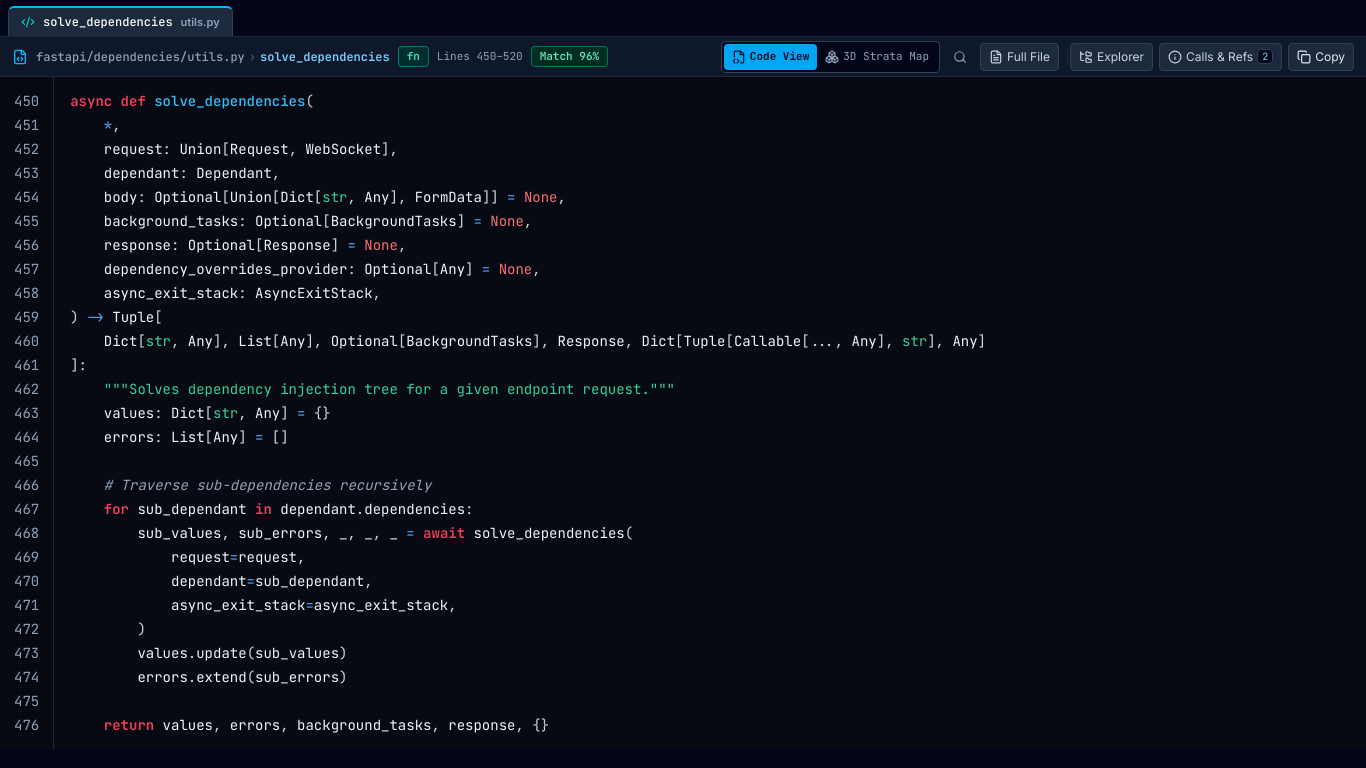
Test: Phase 4 Everyday Developer Ergonomics Suite › toggles Full File view in CodeViewerContainer and renders complete file lines
Click the button with test id "toggle-full-file-btn".
click(1020, 56)  # box left=980, top=42, right=1059, bottom=70
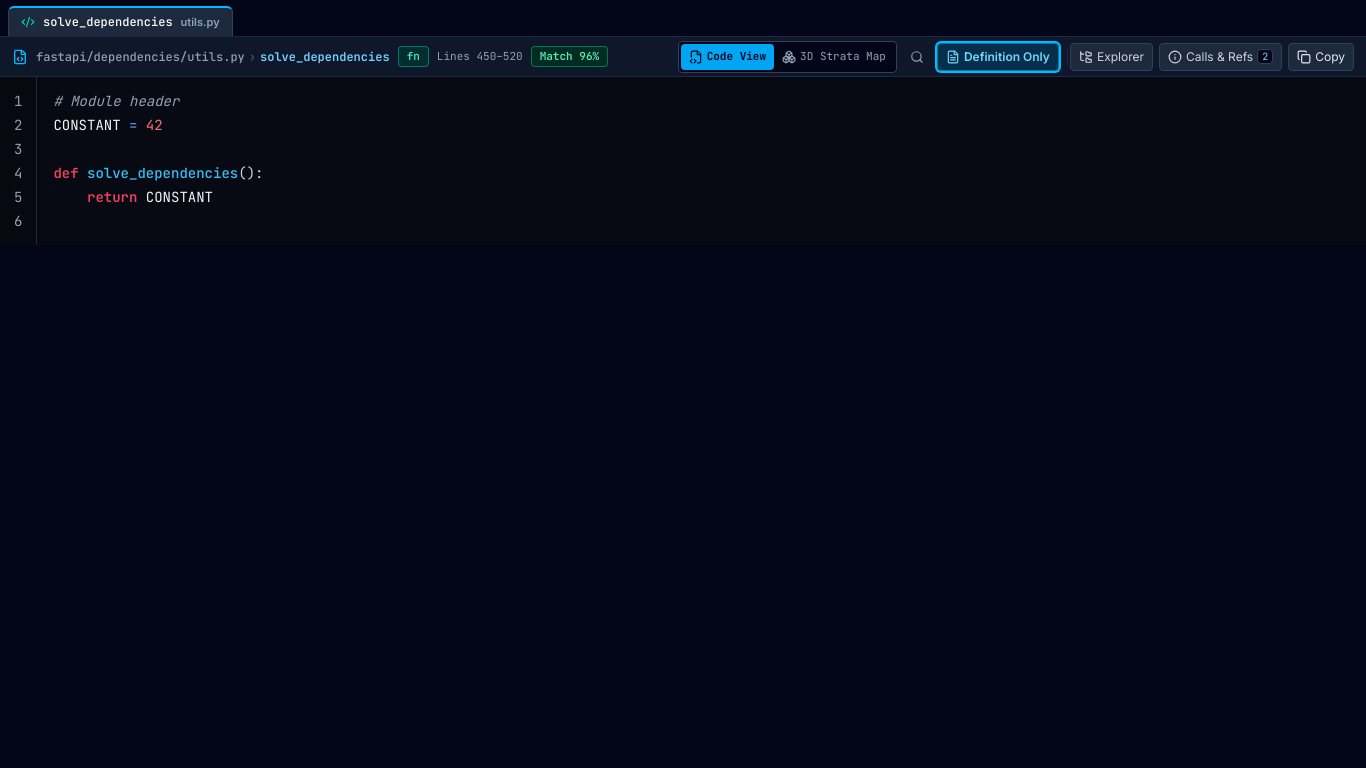
Result: the element with test id "code-display" shows "CONSTANT = 42" at left=0, top=77, right=1365, bottom=245
# Toggle back to isolated symbol view
Click the button with test id "toggle-full-file-btn".
click(998, 56)  # box left=937, top=42, right=1059, bottom=70
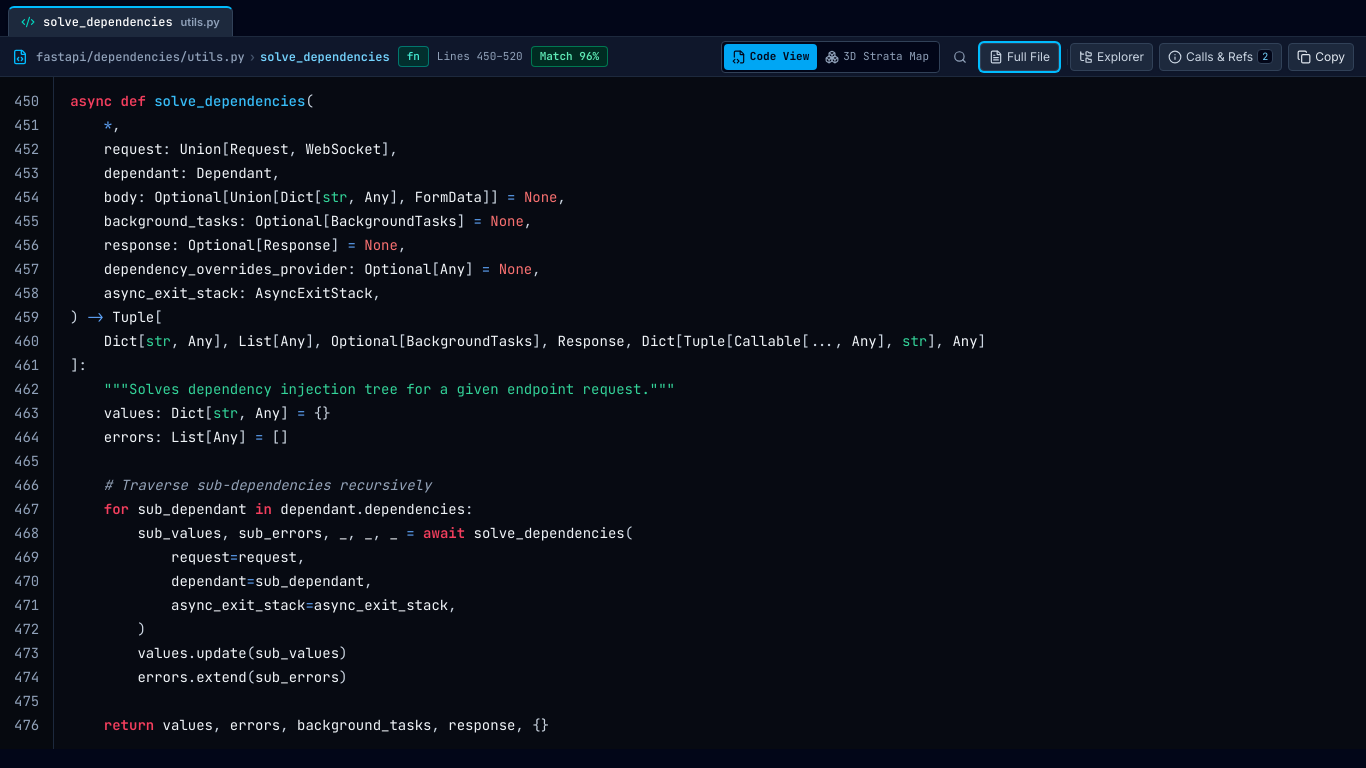
Result: the element with test id "code-display" no longer shows "CONSTANT = 42"
